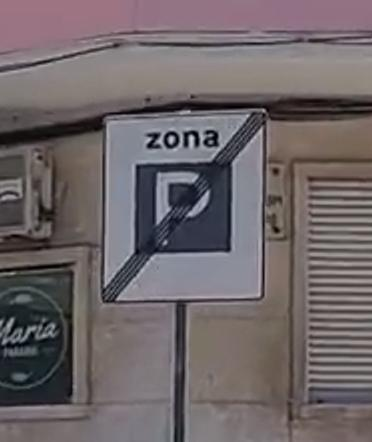fim de zona de estacionamento autorizado: (99, 104, 269, 309)
